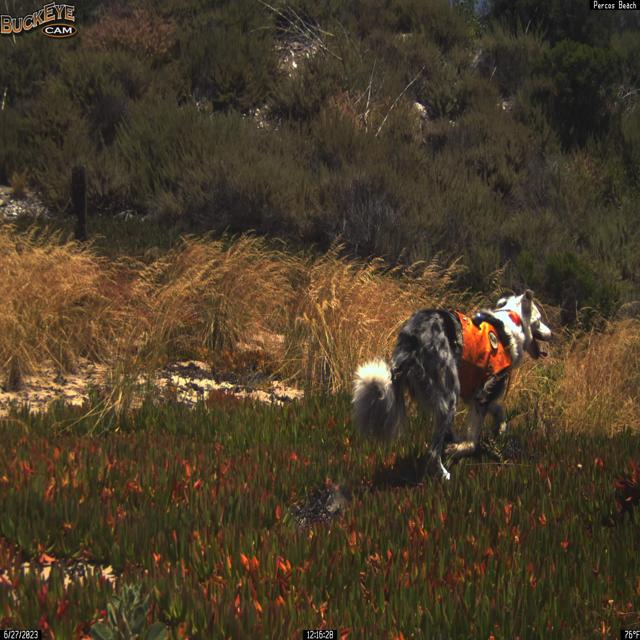dog: (351, 288, 553, 483)
